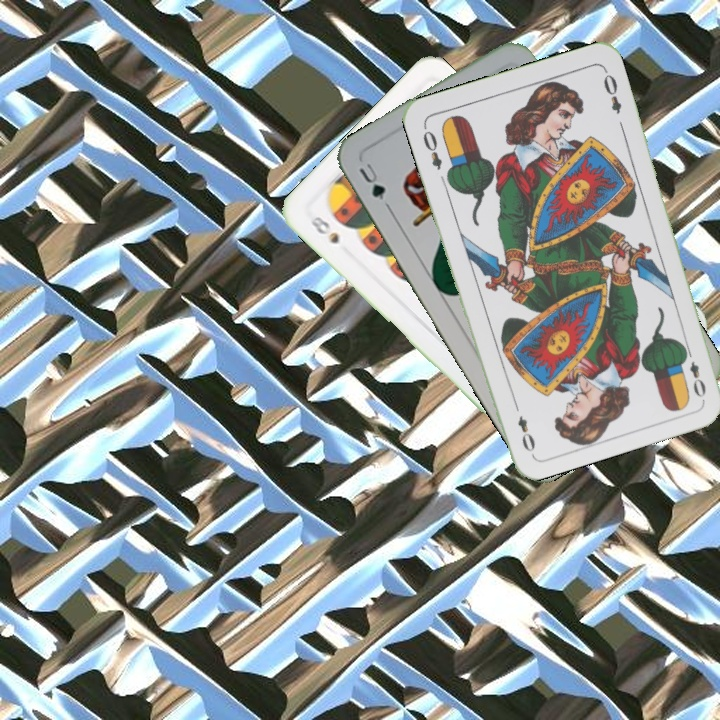EO: (680, 343, 709, 401), (418, 122, 445, 173)
GU: (354, 159, 388, 203)
S8: (306, 212, 342, 247)
